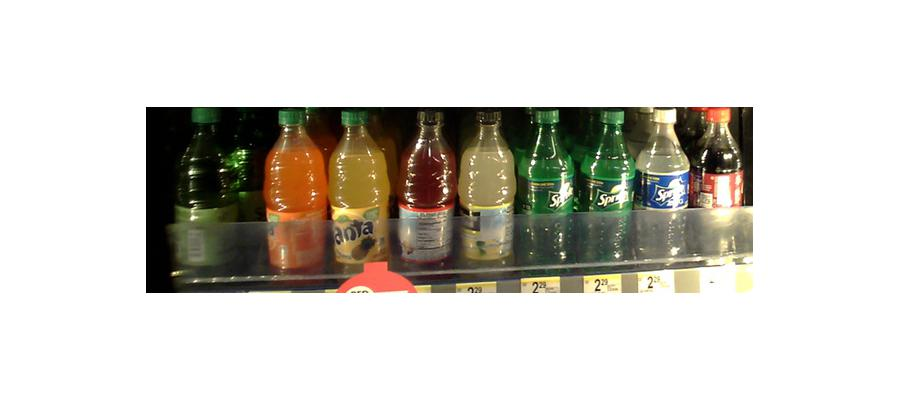bottle: (171, 108, 236, 279), (264, 107, 327, 279), (329, 110, 392, 272), (398, 108, 453, 271), (459, 108, 514, 270), (520, 108, 575, 266), (580, 107, 634, 264), (638, 106, 690, 263), (693, 106, 746, 256)
